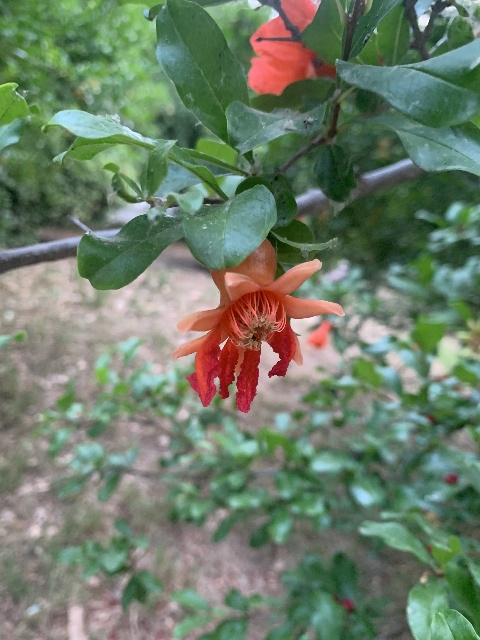flower: (172, 238, 343, 414), (247, 4, 336, 95), (307, 321, 333, 348)
